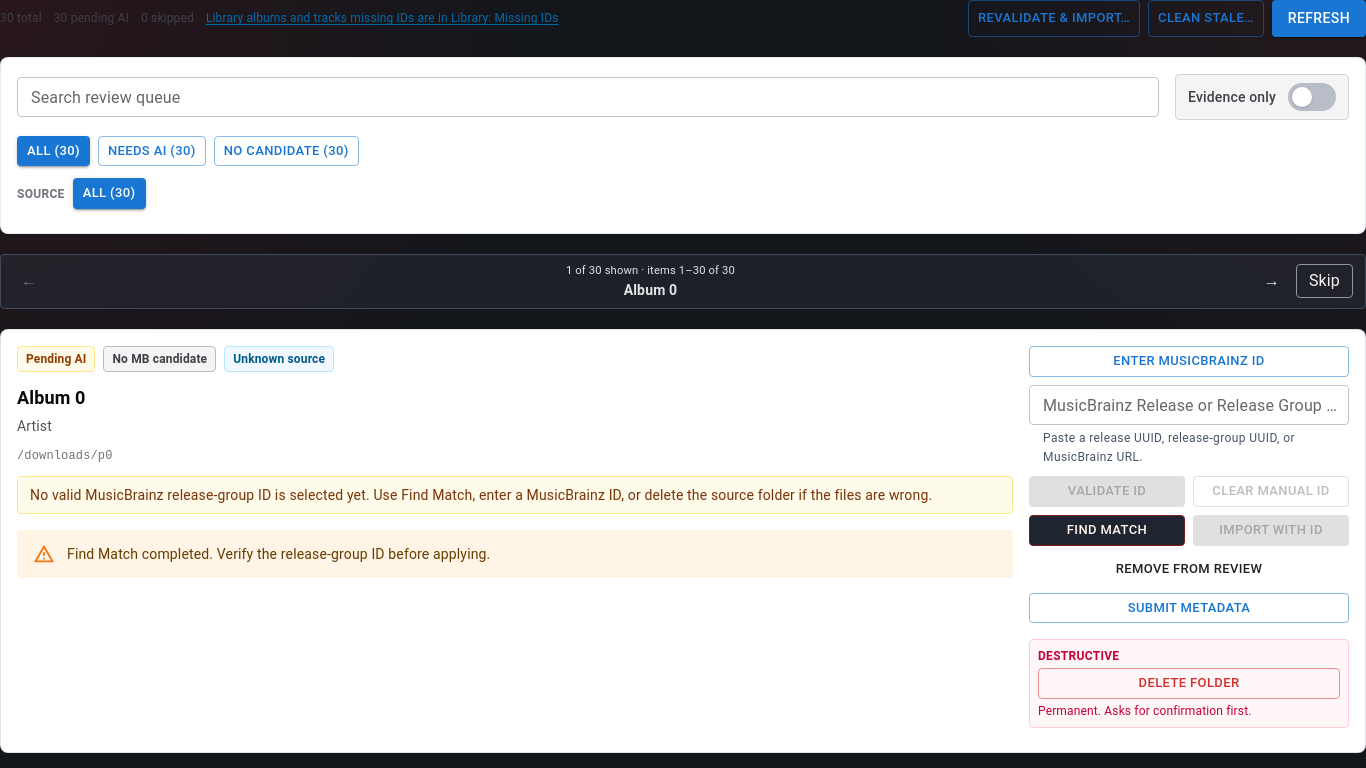
Test: Revalidate & Import: synchronous and job forms (#396 B1) › 409 job_already_running (followed by apiJson): says nothing new started and follows that job
The width and height of the screenshot is (1366, 768).
Click the button "Revalidate & Import…".
click(1054, 18)  # box [968,0,1140,36]
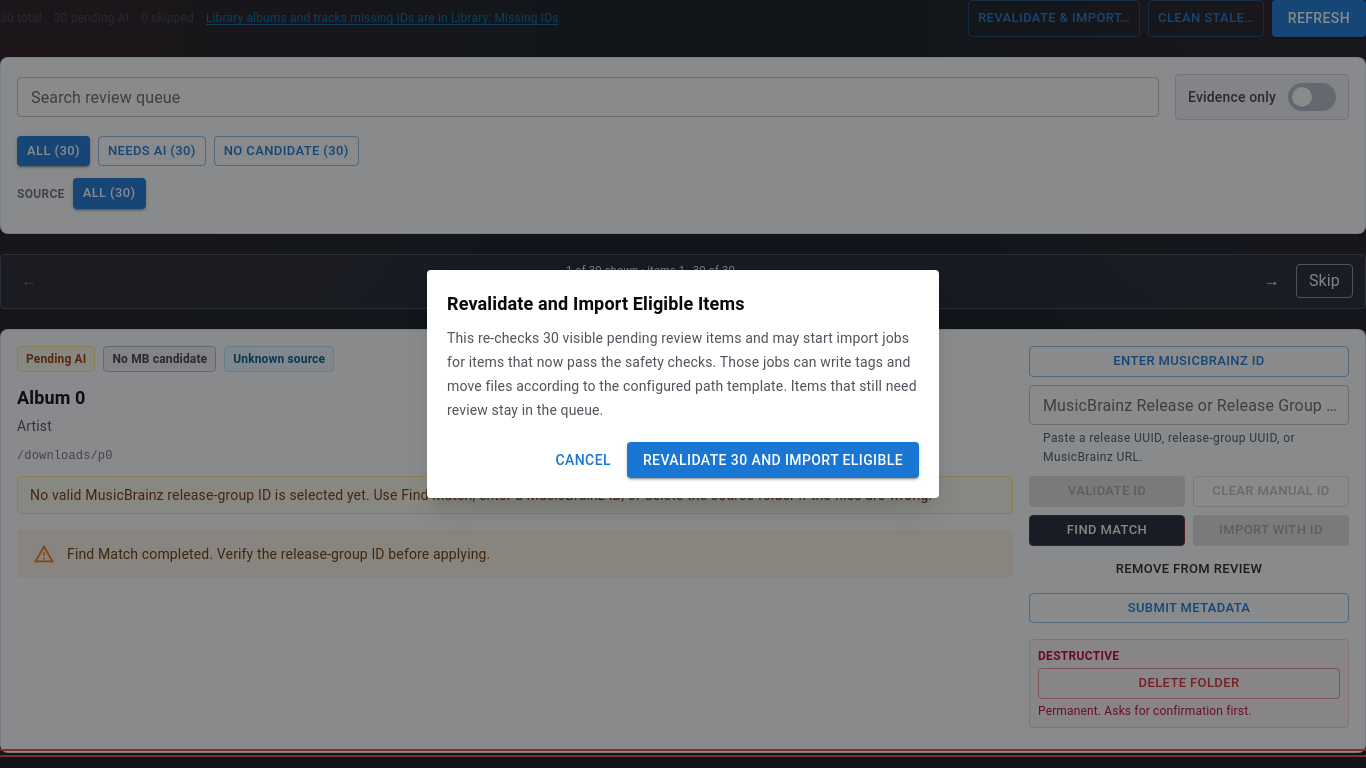
Click the button "Revalidate 30 and import eligible".
click(773, 460)  # box [627,442,919,478]
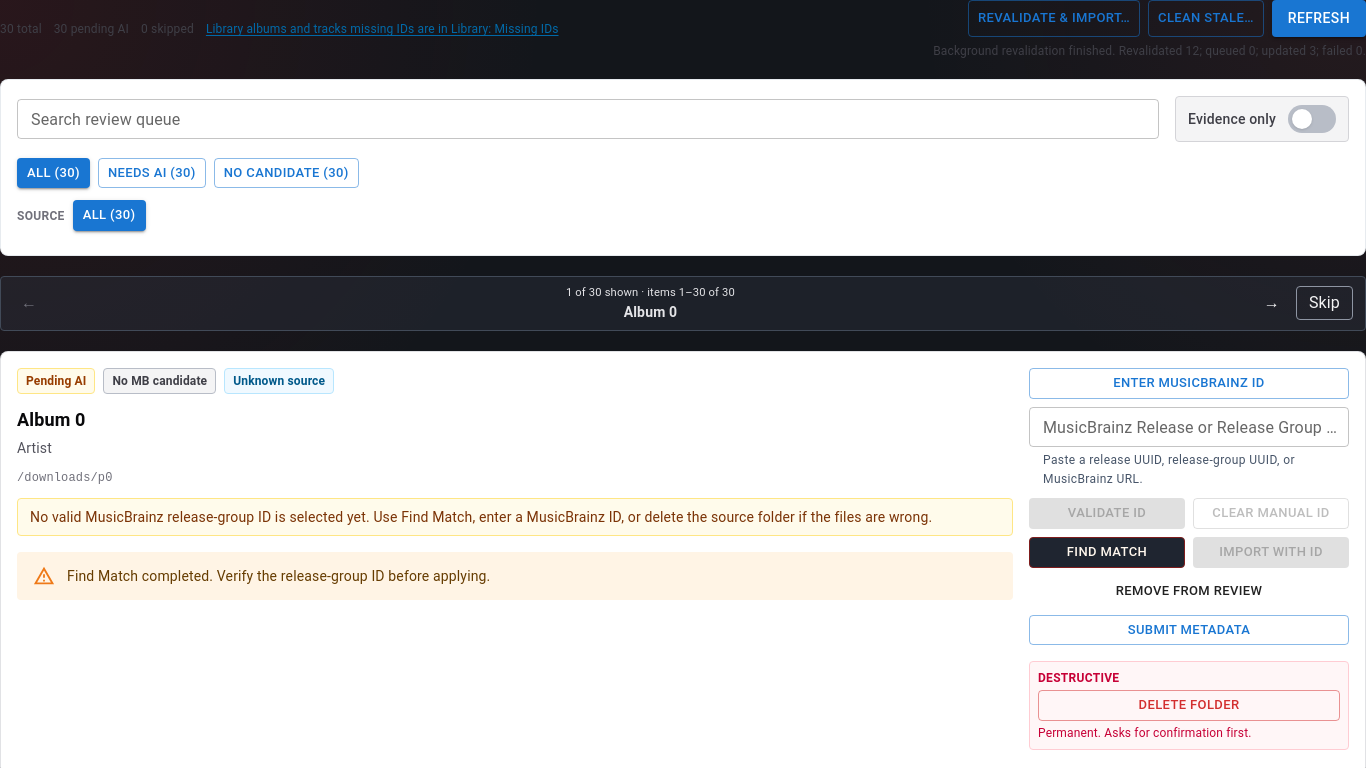
expect the text "Background revalidation finished. Revalidated 12; queued 0; updated 3; failed 0." is shown: met, box [933,42,1365,58]
